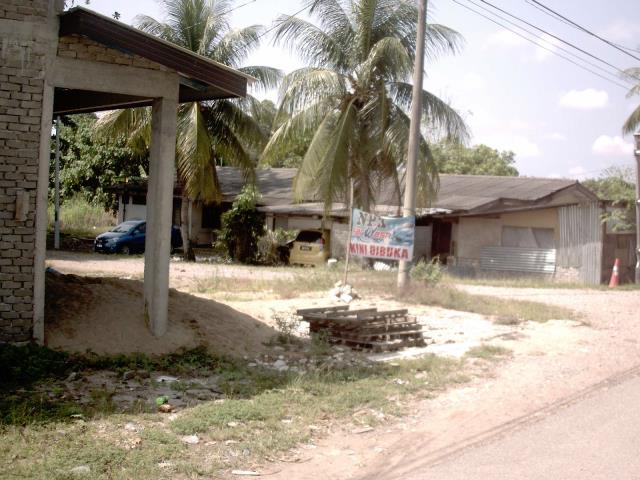ads_sign: (341, 202, 423, 269)
